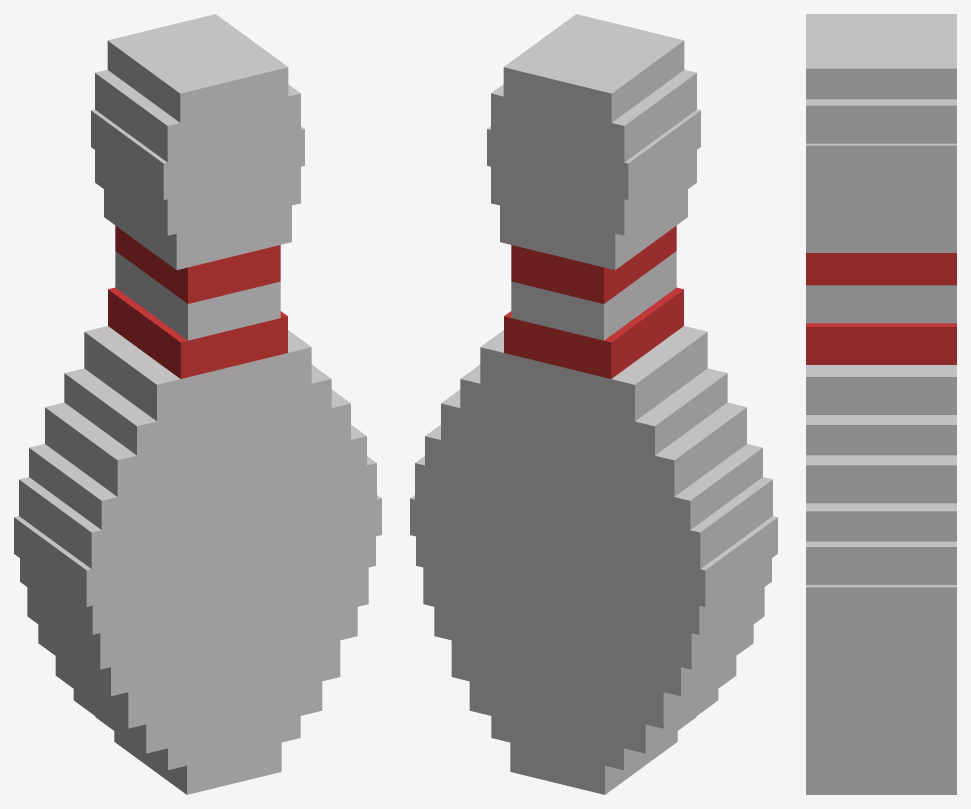
The model's file is co_BowlingPinCollectable.fbx.
The picture shows the model from 3 angles, left to right: view 1: azimuth 30°, elevation 25°; view 2: azimuth 150°, elevation 25°; view 3: azimuth 270°, elevation 25°; orthographic projection. The views are drawn at different scales.
Parts seen in each view (by area): view 1: BowlingPin; view 2: BowlingPin; view 3: BowlingPin.
Part boxes in pixels (x1,y1,x2,y2): BowlingPin: (14,14,381,794); BowlingPin: (410,14,777,794); BowlingPin: (806,14,956,794).
Size of the model in its own units: 42.18 by 96 by 18.
